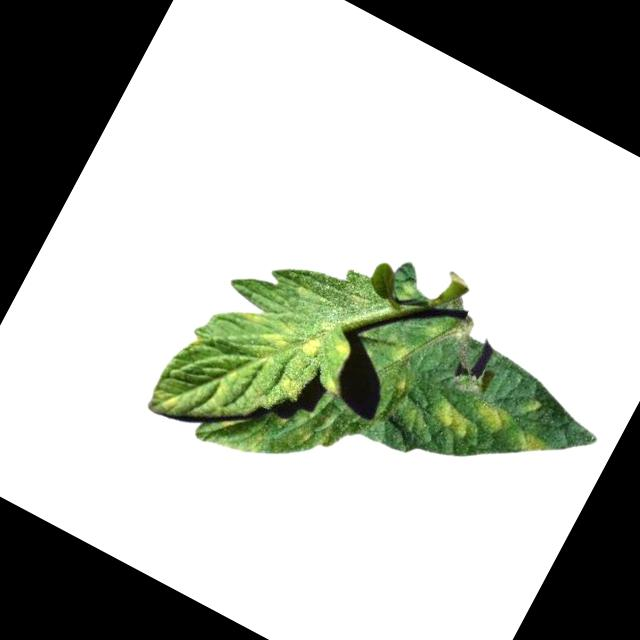Leaf_Mold: (216, 294, 334, 404), (429, 382, 515, 460), (518, 429, 558, 465), (327, 337, 359, 370)
